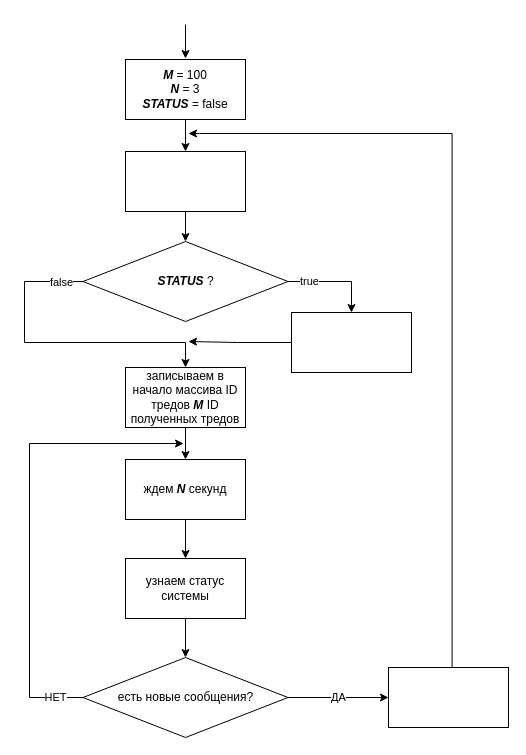
This 526x755 diagram has some shape labels left out. Each missing label, with the box of its shape:
STATUS = true: (388, 666, 508, 728)
загружаем M тредов: (124, 150, 246, 212)
удаляем из массива ID тредов первым M элементов, STATUS = false: (290, 312, 412, 372)
